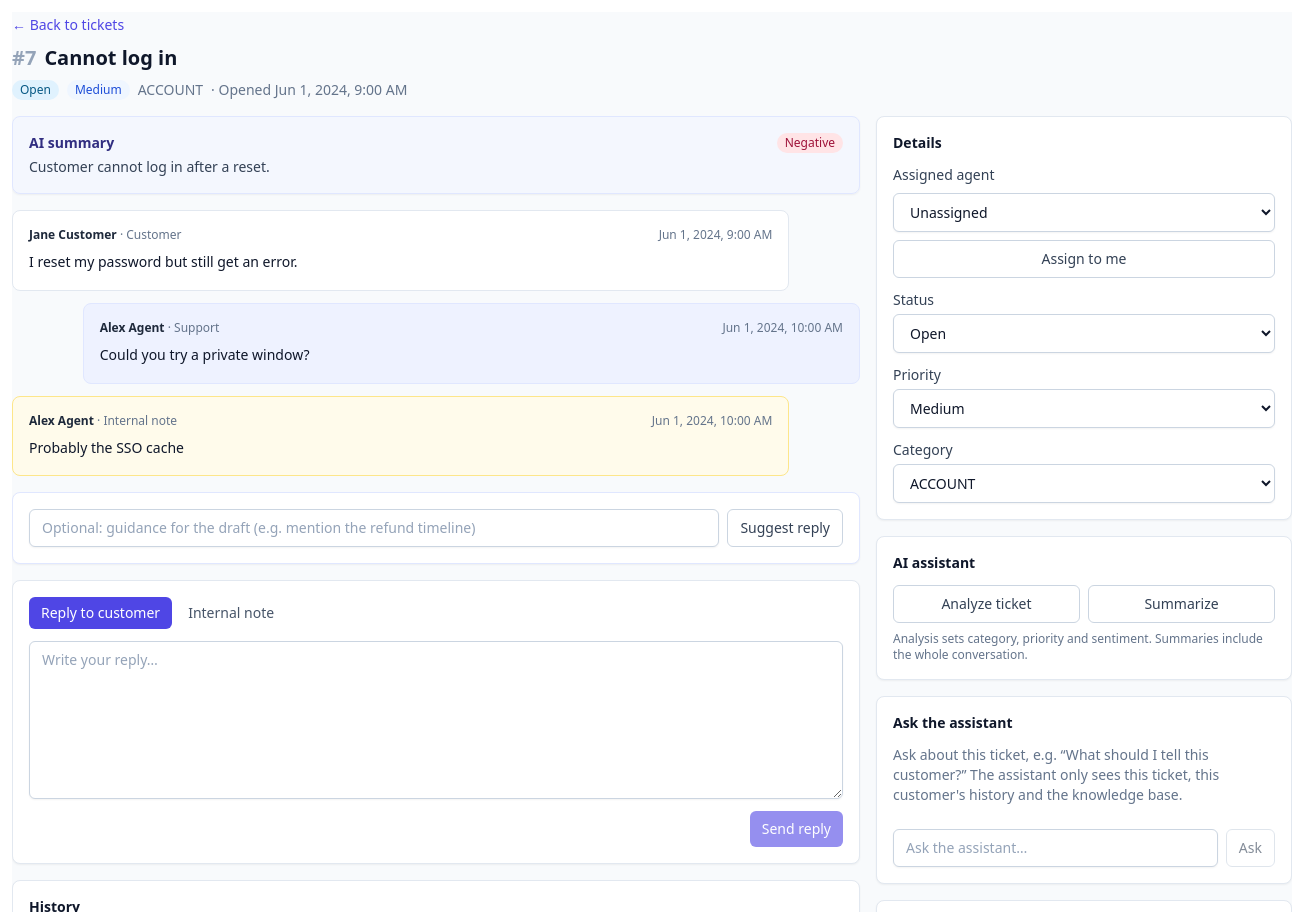
Test case: TicketDetailPage for agents › shows AI errors without breaking the page
Click the button "Suggest reply". click: {"x": 785, "y": 528}
box: [727,509,843,547]
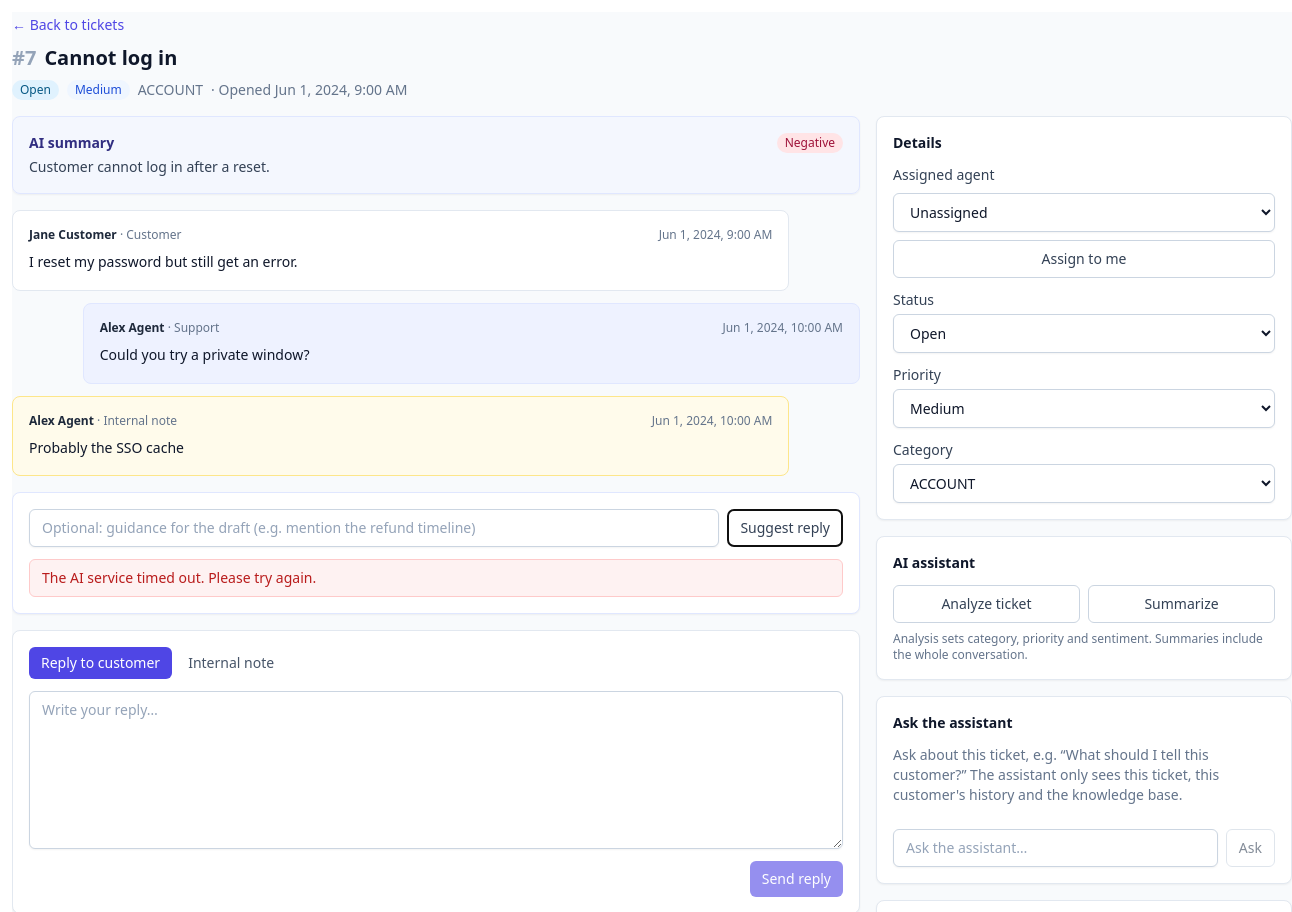
Expected: the button "Send reply" is shown, [750,861,843,897]
Expected: the text "The AI service timed out. Please try again." is shown, [29,559,843,597]
